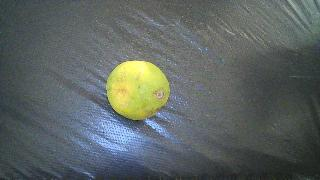DESECHO: (106, 61, 170, 120)
